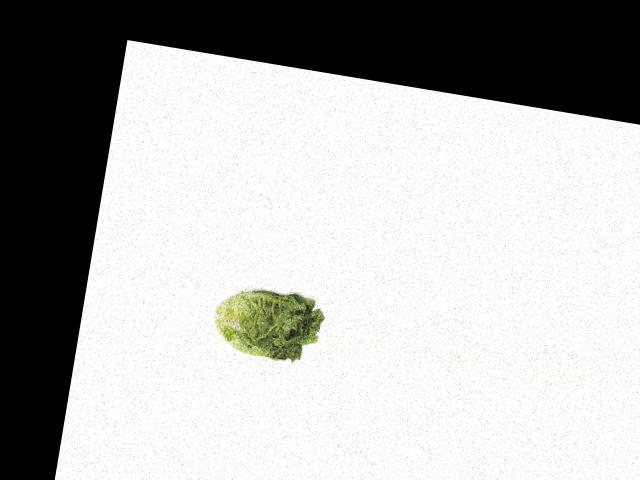lettuce: (207, 277, 325, 372)
